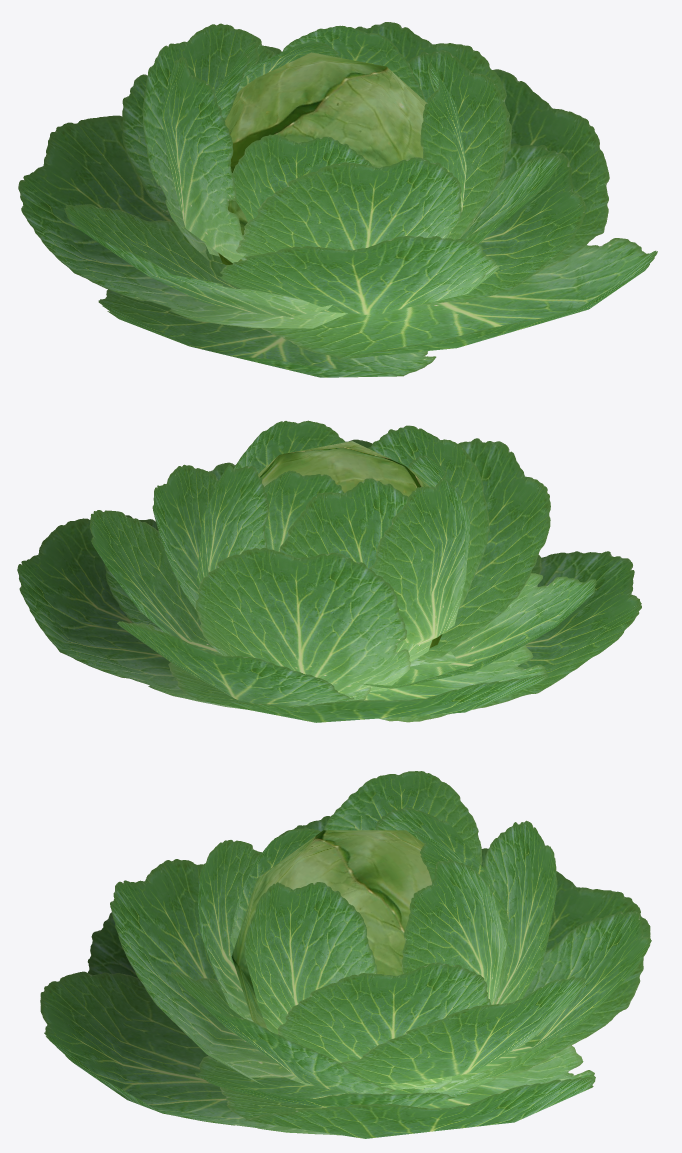
File: Cabbage.fbx
The picture shows the model from 3 angles, top to bottom: view 1: azimuth 30°, elevation 25°; view 2: azimuth 150°, elevation 25°; view 3: azimuth 270°, elevation 25°; orthographic projection. The views are drawn at different scales.
Parts seen in each view (by area): view 1: Icosphere; view 2: Icosphere; view 3: Icosphere.
Boxes of the visible parts, x1=… form: Icosphere: x1=18, y1=22, x2=657, y2=377; Icosphere: x1=17, y1=420, x2=641, y2=722; Icosphere: x1=40, y1=771, x2=651, y2=1138.
Bounding box in the file's own units: 141 × 63.28 × 144.
Materials: 1 (1 with a texture image).
